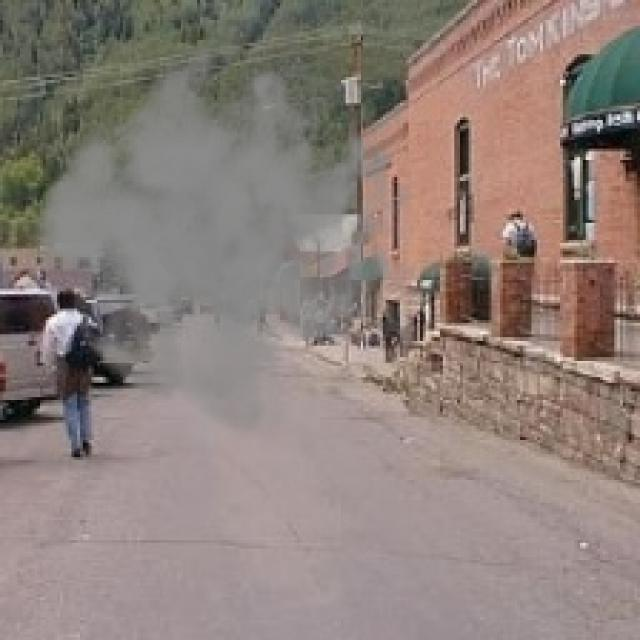smoke: (26, 28, 417, 443)
